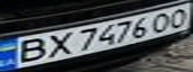4: (97, 21, 118, 47)
6: (130, 14, 157, 39)
7: (75, 25, 100, 52), (115, 18, 136, 44)
B: (6, 35, 54, 65)
O: (145, 10, 178, 34), (163, 6, 193, 29)
X: (39, 29, 78, 60)
